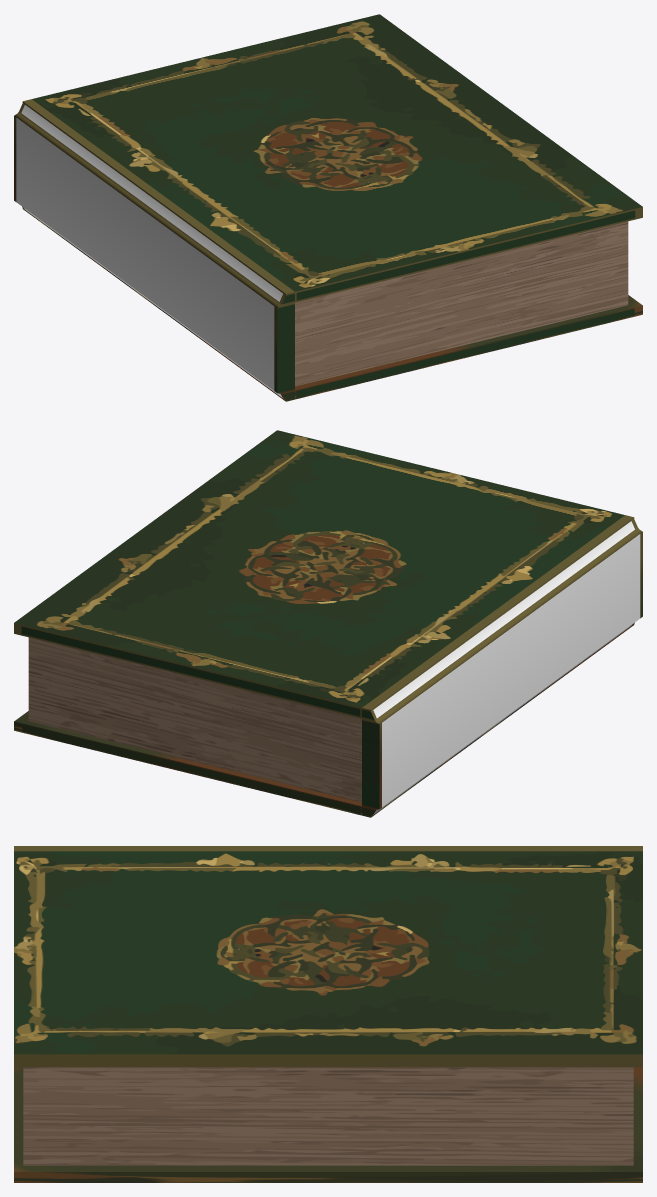
File: RedBook.fbx
The picture shows the model from 3 angles, top to bottom: view 1: azimuth 30°, elevation 25°; view 2: azimuth 150°, elevation 25°; view 3: azimuth 270°, elevation 25°; orthographic projection. The views are drawn at different scales.
Visible parts, largest first — view 1: book1:pCube5; view 2: book1:pCube5; view 3: book1:pCube5.
Boxes of the visible parts, x1,y1,x2,y2 form: book1:pCube5: (14,14,642,401); book1:pCube5: (14,430,642,817); book1:pCube5: (14,846,642,1182).
Bounding box in the file's own units: 9.07 × 2.56 × 11.31.
